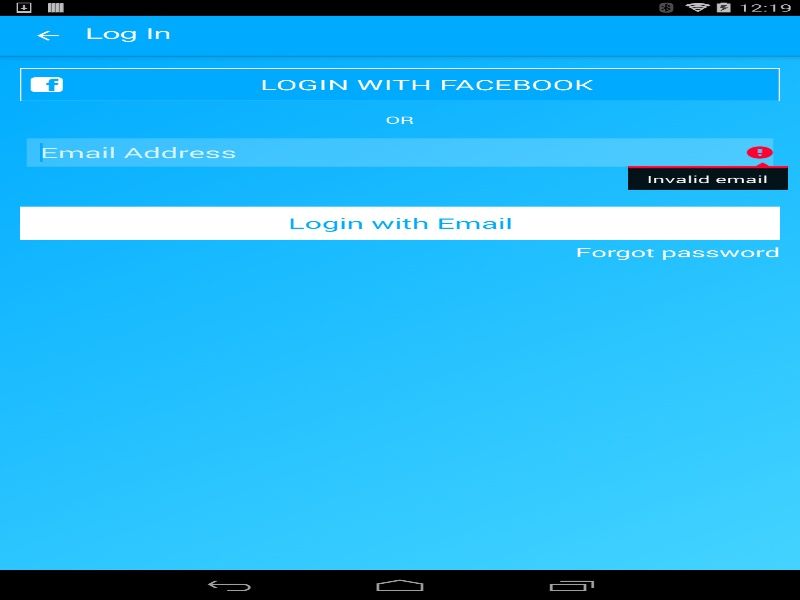Button: (20, 68, 780, 101), (20, 206, 780, 239), (10, 18, 85, 53)
Input: (26, 138, 773, 166)
